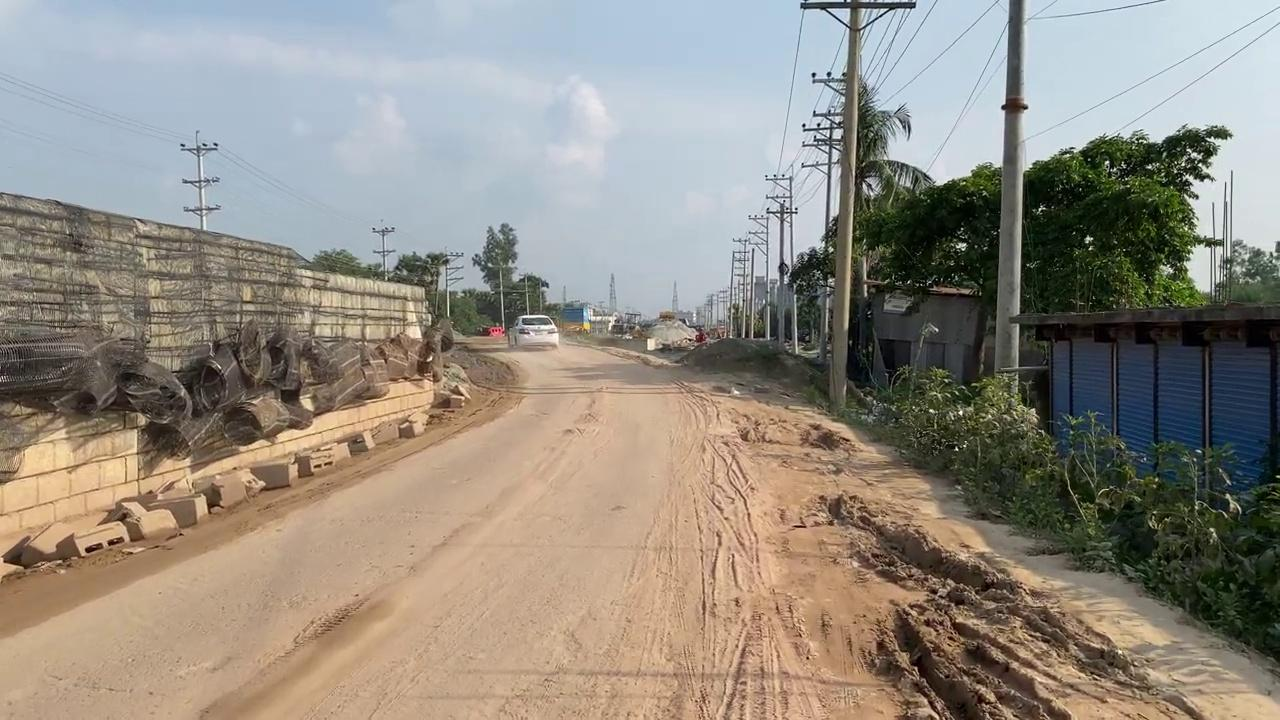Car: (508, 313, 559, 349)
Garbage: (0, 314, 455, 470)
Garbage-bin: (855, 284, 986, 395)
Muddy road: (1, 331, 1276, 718)
Pole: (827, 6, 862, 413), (993, 0, 1027, 399)
Traffic-sign: (790, 70, 935, 397), (471, 220, 518, 332)
Tree: (560, 305, 642, 336), (560, 305, 591, 333), (607, 310, 641, 335), (607, 312, 625, 334)
Upstairs: (0, 189, 441, 540)
